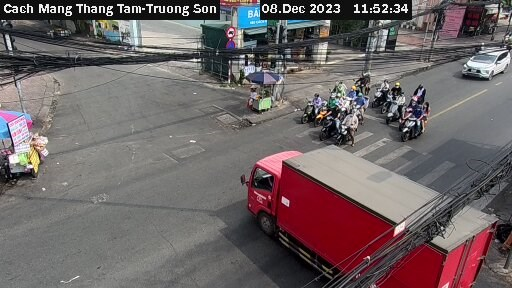car: (461, 44, 508, 81)
motorbike: (401, 111, 437, 143), (335, 116, 364, 146), (350, 96, 376, 121), (299, 95, 322, 123), (325, 81, 350, 103)
truck: (233, 144, 493, 288)
